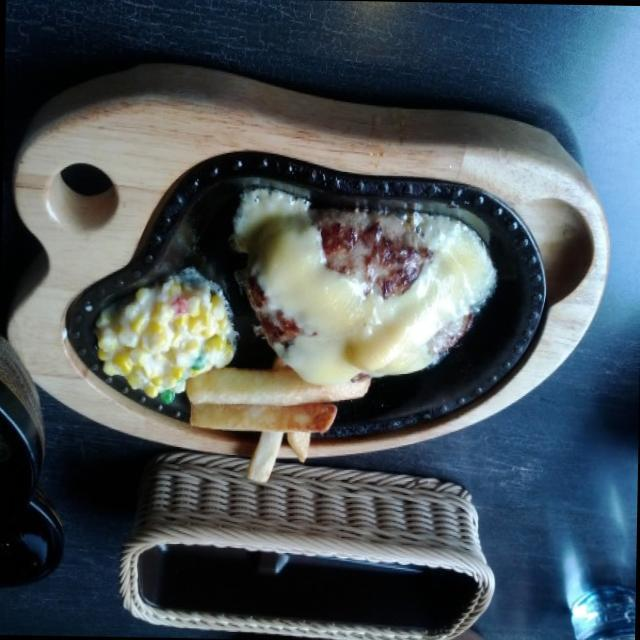French Fries: (192, 380, 331, 468)
